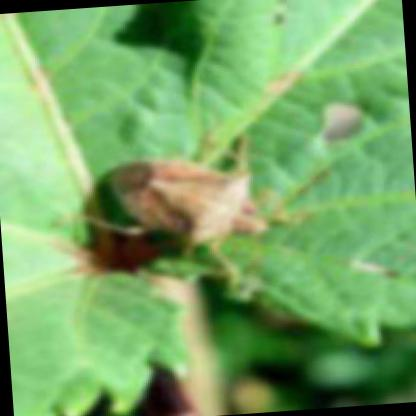ash weevil: (88, 160, 271, 290)
